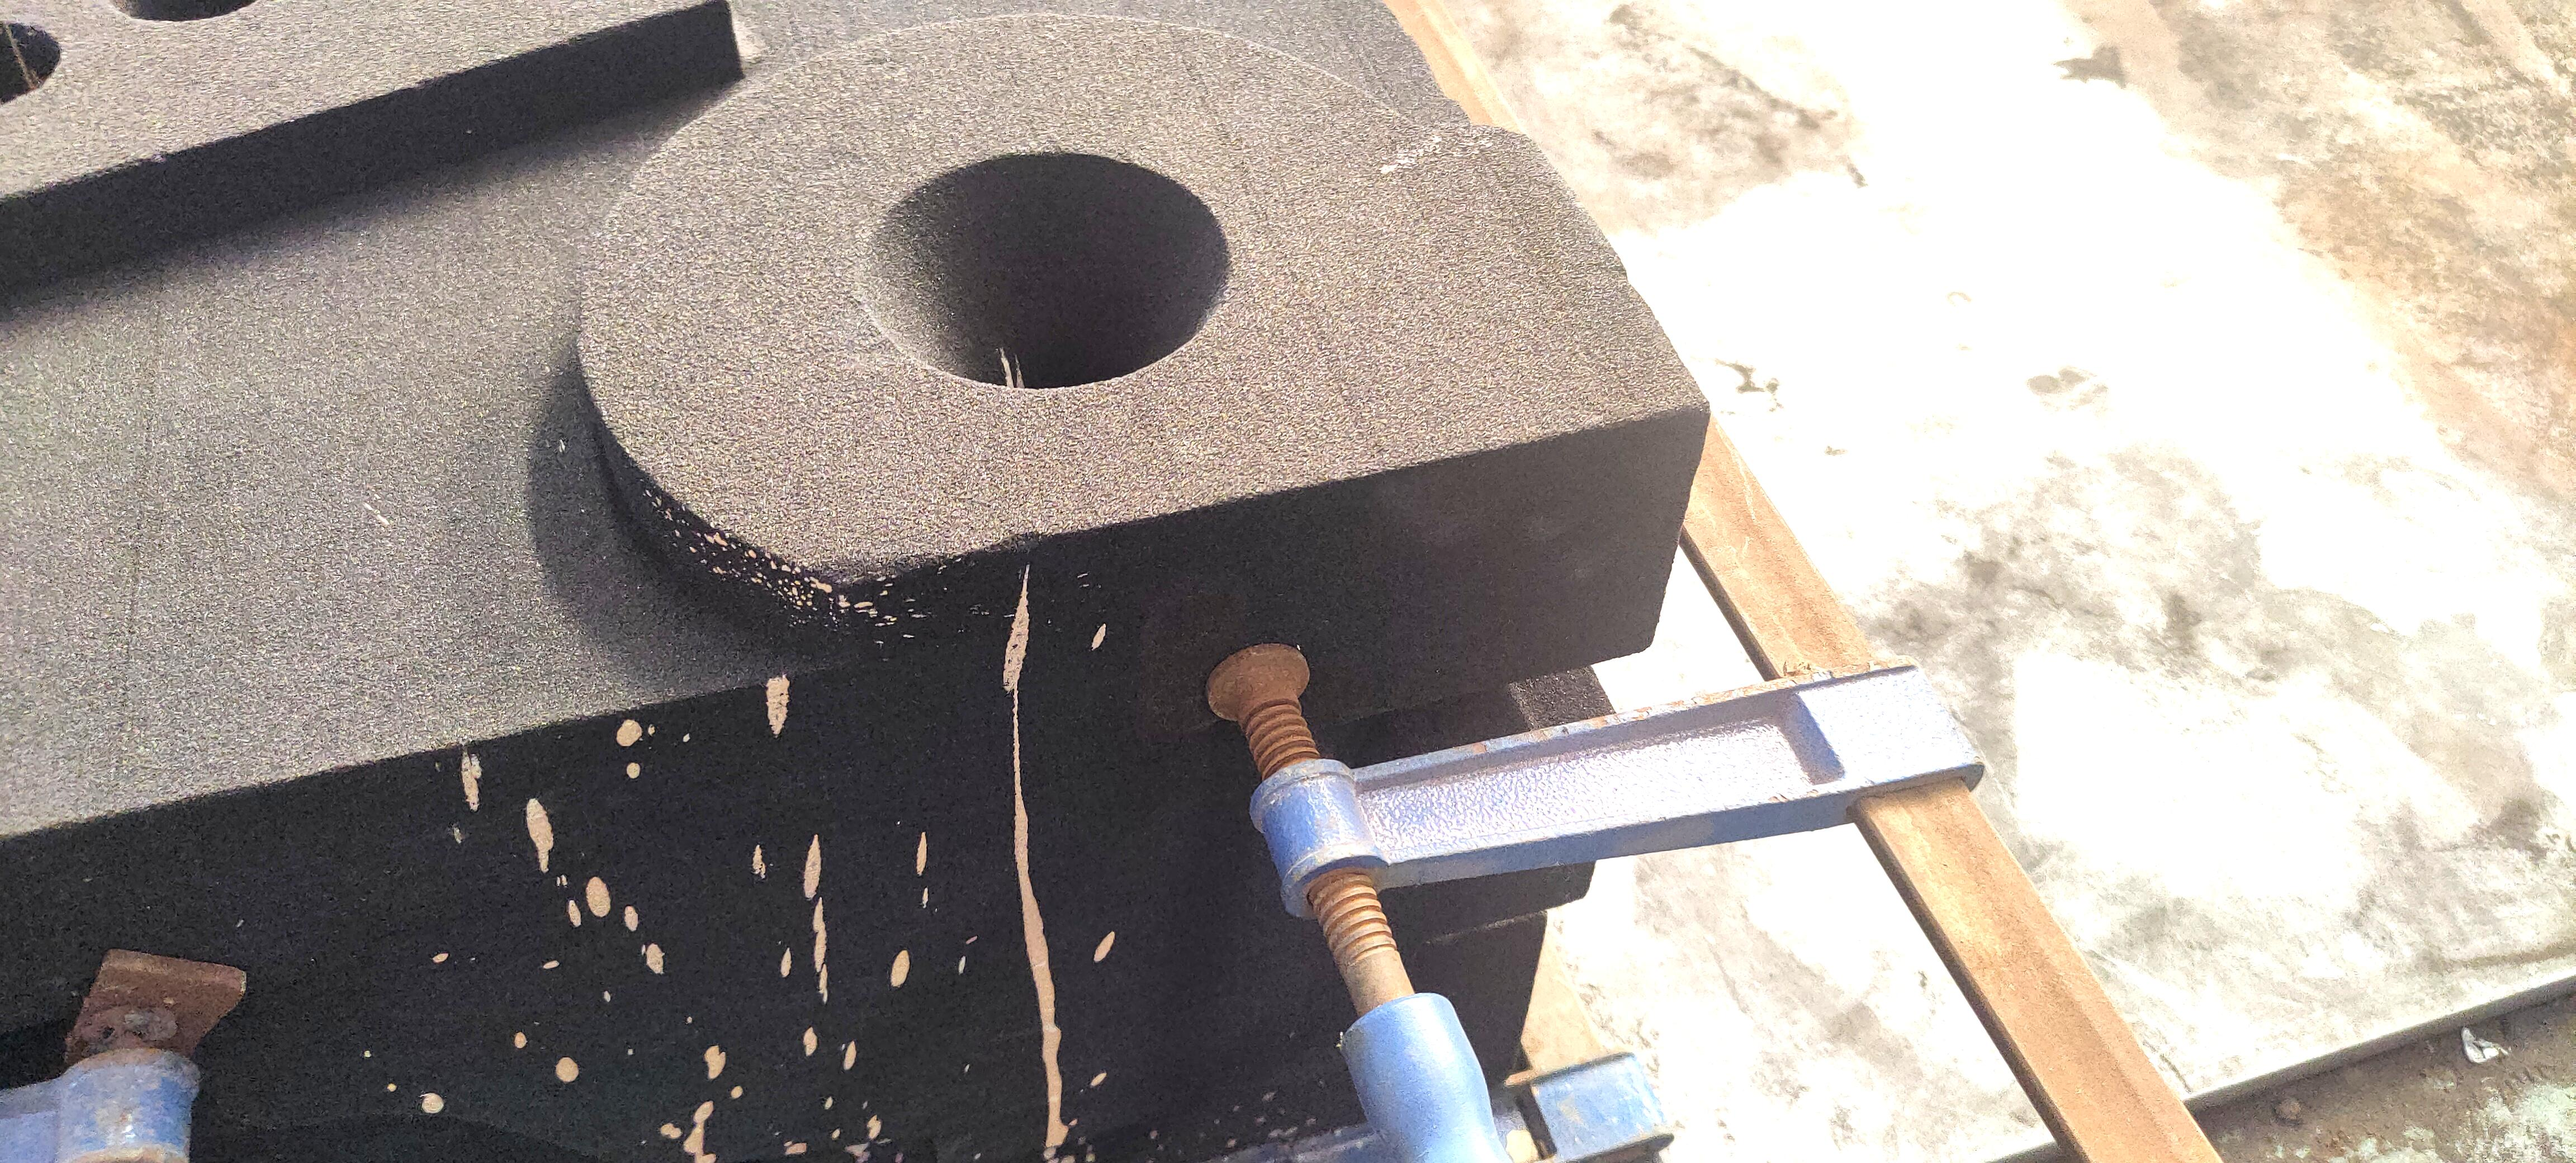pouring hole: (859, 151, 1229, 391)
